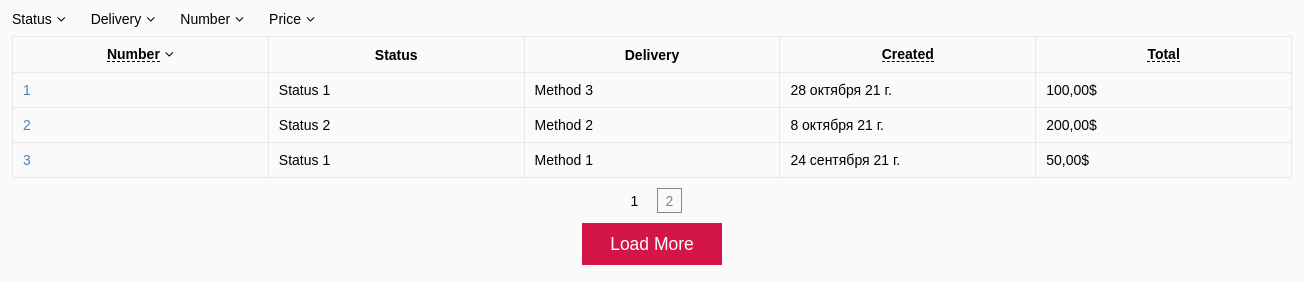
Test: user orders › filter
Check: the button "Clear" is not shown
Click the button "Status" at x=39, y=19, box [12,12,66,26]
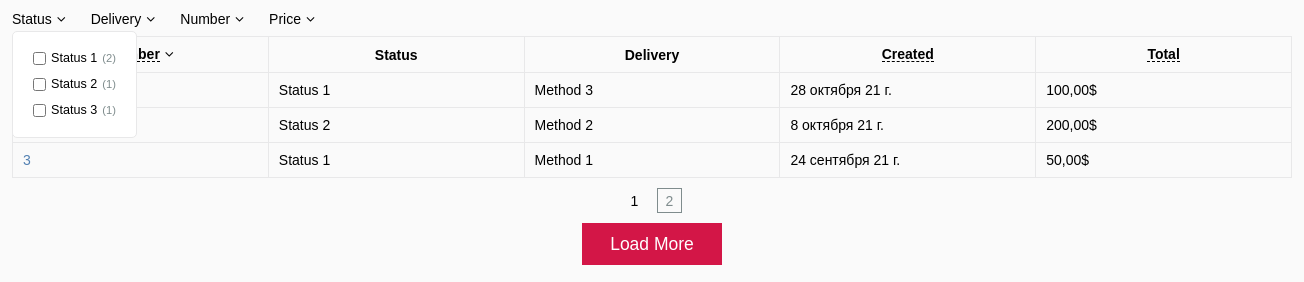
Check: the number of checkboxes is 3
Check: the text named "count" reads "(2)", box [102,53,116,64]
Check: the text named "count" reads "(1)", box [102,79,116,90]
Click the checkbox labelled "Status 1" at x=40, y=58, box [33,52,46,65]
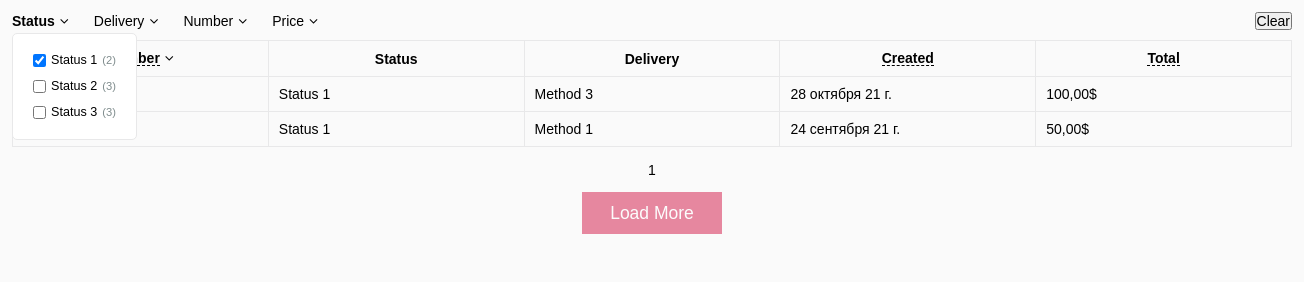
Check: the text named "count" reads "(2)", box [102,55,116,66]
Check: the text named "count" reads "(3)", box [102,81,116,92]
Check: the button "Load More" is disabled, box [582,192,722,234]
Click the button "Delivery" at x=126, y=21, box [94,14,158,28]
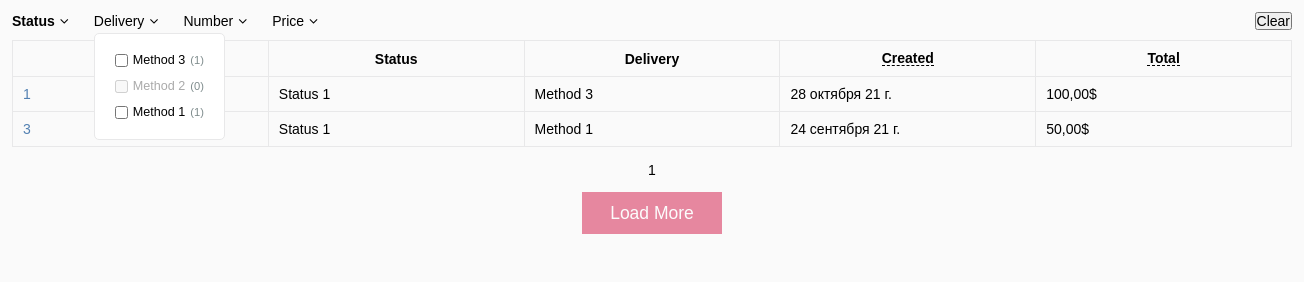
Check: the text named "count" reads "(1)", box [190,55,204,66]
Check: the text named "count" reads "(0)", box [190,81,204,92]
Check: the checkbox labelled "Method 2" is disabled, box [115,80,128,93]
Click the button "Clear" at x=1273, y=21, box [1254,12,1292,30]
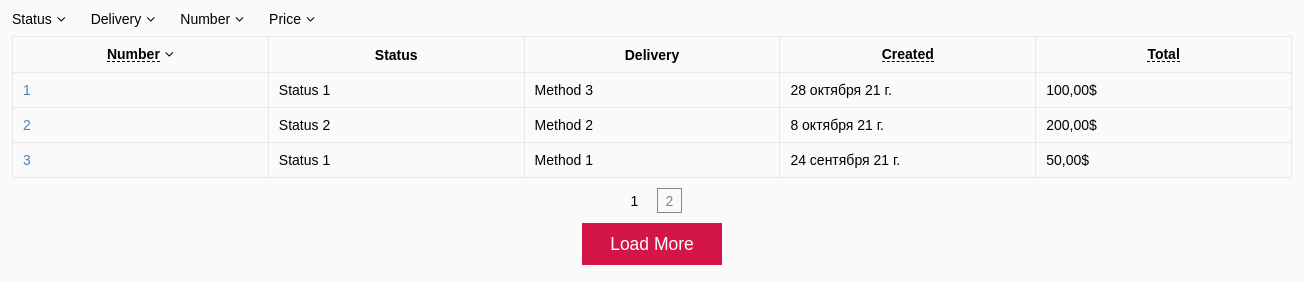
Check: the button "Clear" is gone
Check: no checkboxes are shown
Check: the button "Load More" is enabled, box [582,223,722,265]
